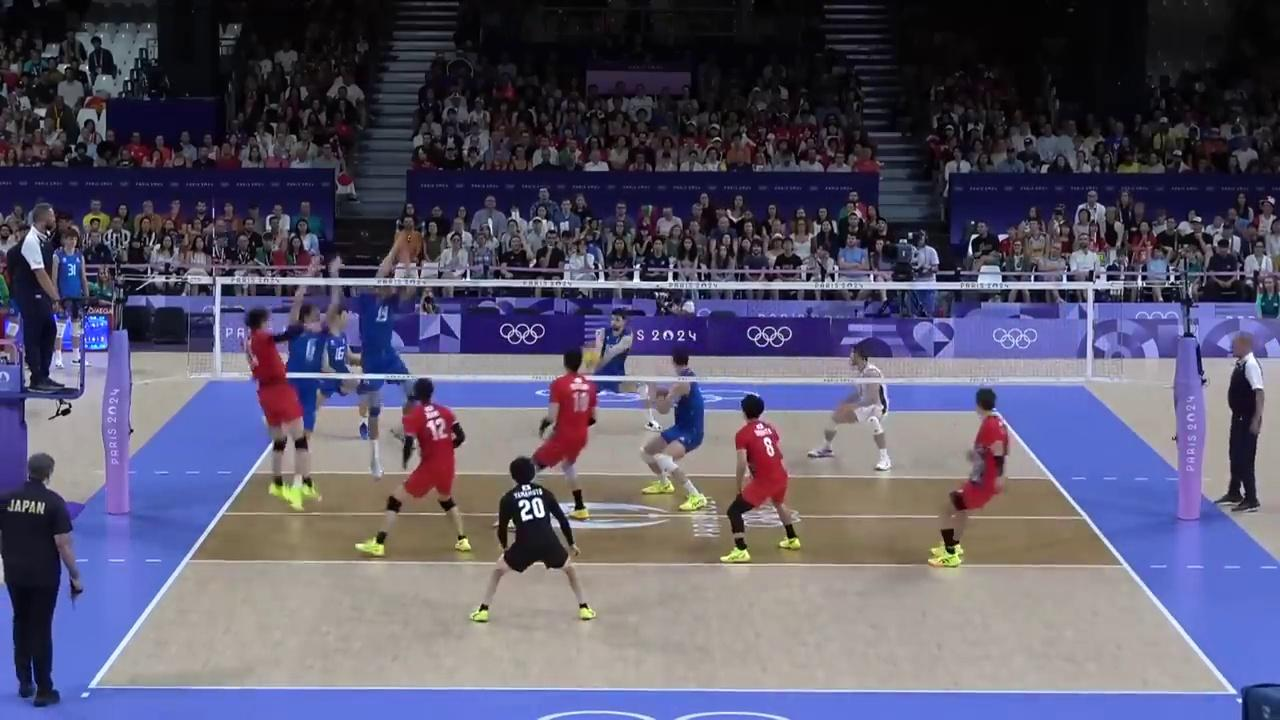ball: (584, 349, 601, 366)
